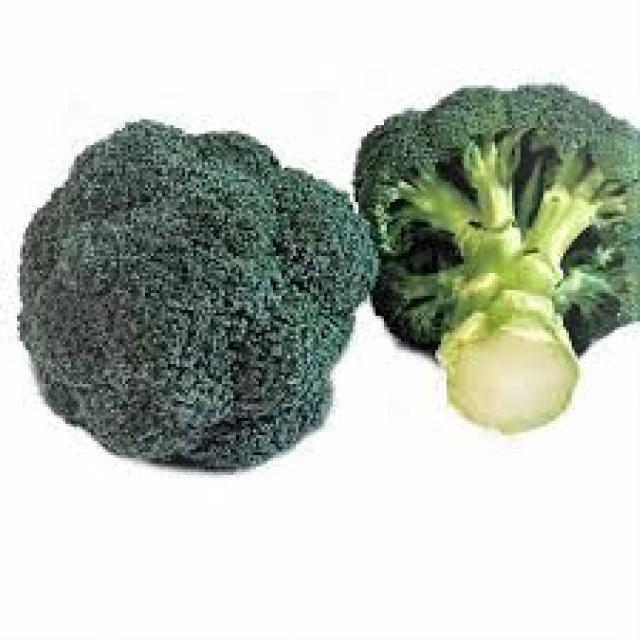broccoli: (10, 85, 393, 482), (340, 52, 640, 444)
